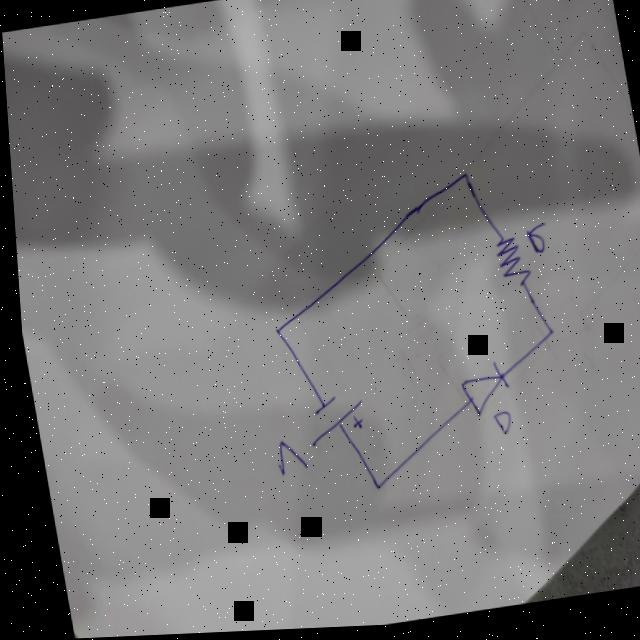diode: (451, 363, 508, 424)
junction: (454, 172, 471, 189), (267, 325, 280, 344), (364, 483, 377, 499), (539, 328, 550, 344)
resistor: (488, 235, 529, 296)
source: (296, 393, 364, 451)
text: (266, 439, 302, 479), (519, 225, 547, 263), (485, 413, 508, 443)
